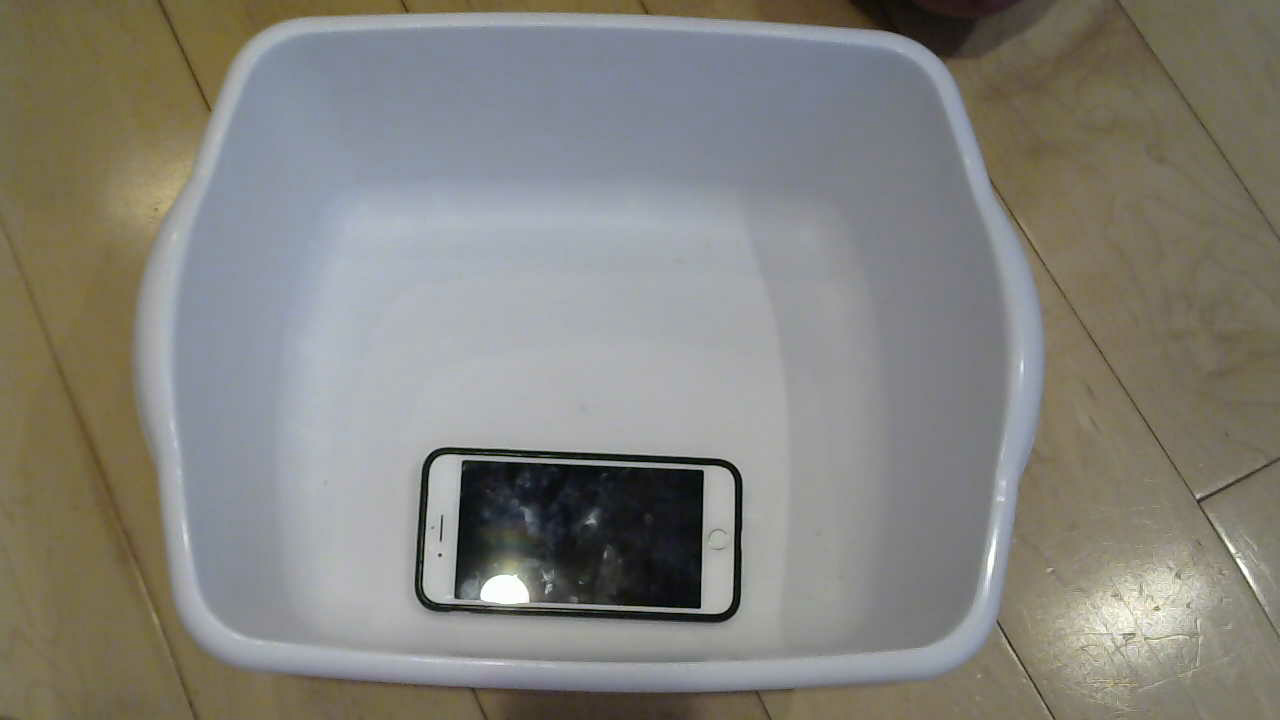phone: (388, 444, 762, 637)
